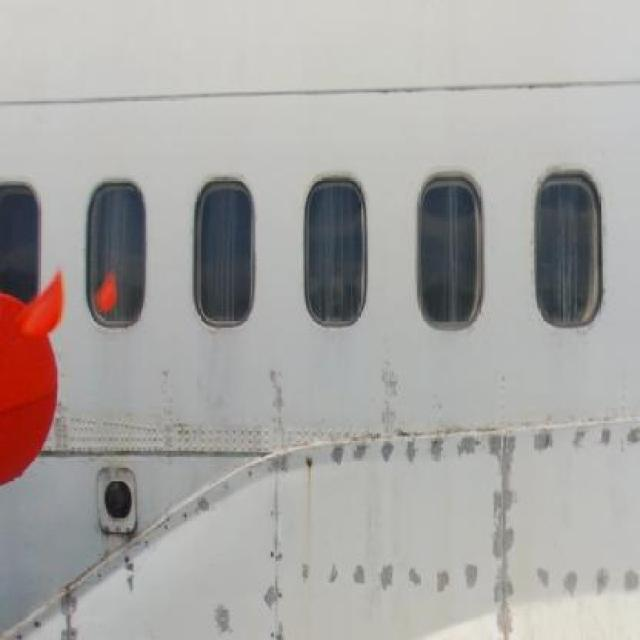Missing-Rivet: (297, 559, 640, 606), (12, 554, 152, 640), (132, 499, 237, 543), (331, 442, 477, 466), (267, 507, 290, 640)
Rust: (301, 448, 322, 542)
Scartch: (284, 541, 640, 626), (315, 431, 640, 482), (488, 417, 524, 640), (261, 467, 293, 640), (258, 357, 297, 466), (371, 336, 402, 450), (158, 348, 179, 469), (193, 581, 238, 634), (52, 577, 85, 640), (51, 395, 74, 460)
